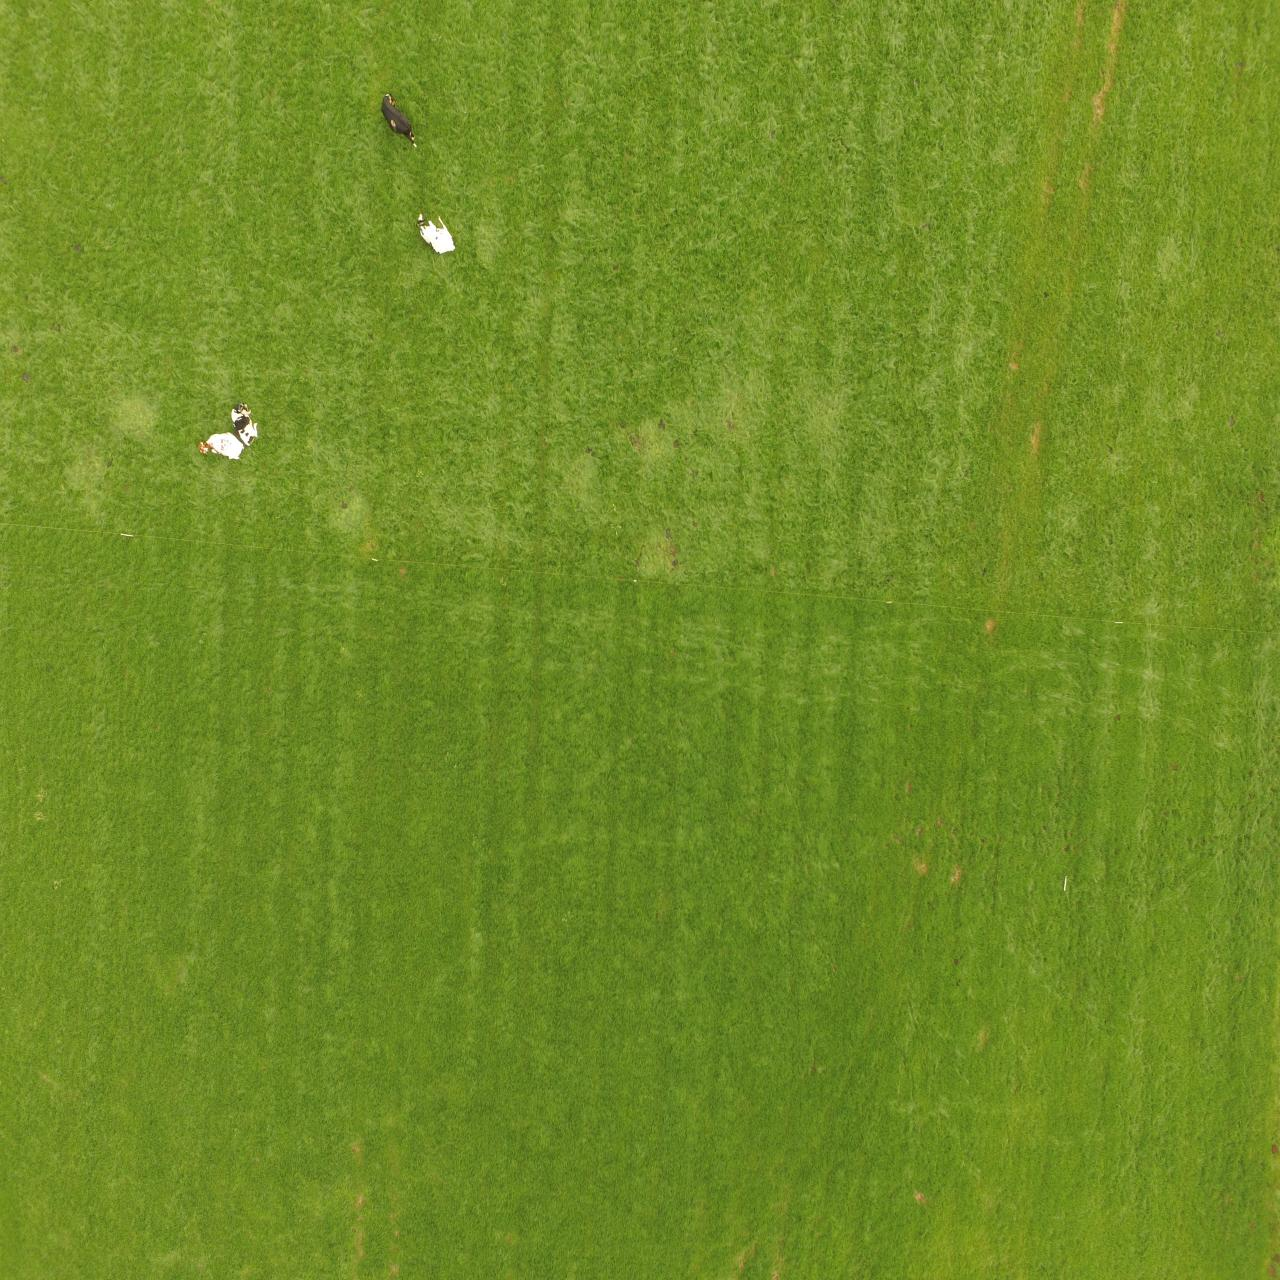cow: (195, 399, 261, 465), (411, 205, 456, 267), (380, 90, 418, 156)
